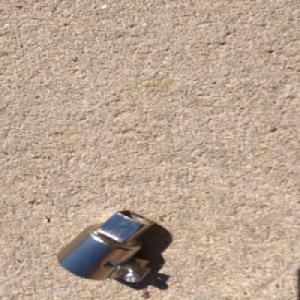MetalPart: (55, 209, 158, 284)
